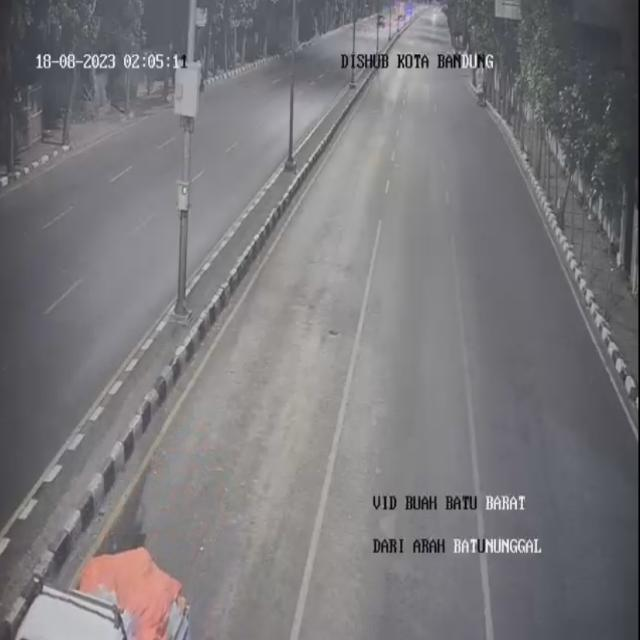ambulance: (0, 545, 201, 638)
